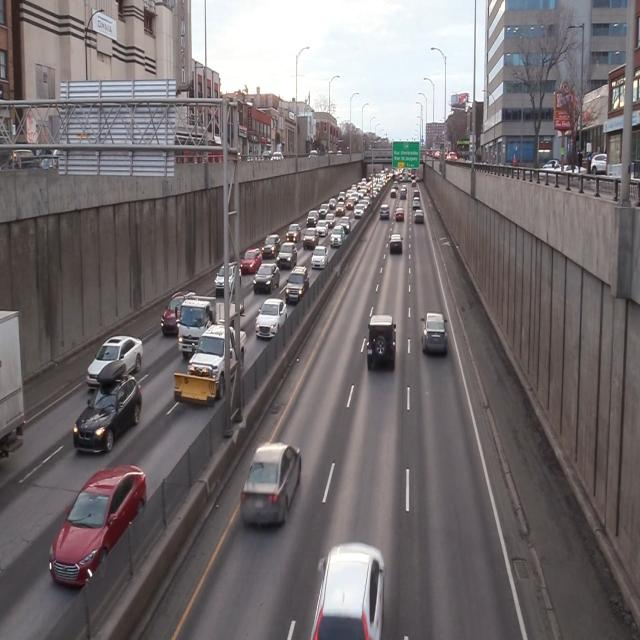Car: (49, 460, 150, 592), (309, 537, 386, 640), (72, 360, 146, 461), (175, 324, 248, 410), (241, 433, 304, 532), (179, 283, 244, 357), (86, 332, 144, 392), (364, 314, 400, 370), (255, 298, 287, 343), (421, 309, 448, 357), (253, 262, 281, 295), (286, 266, 310, 304), (215, 262, 242, 295), (241, 248, 262, 279), (389, 233, 403, 256)
